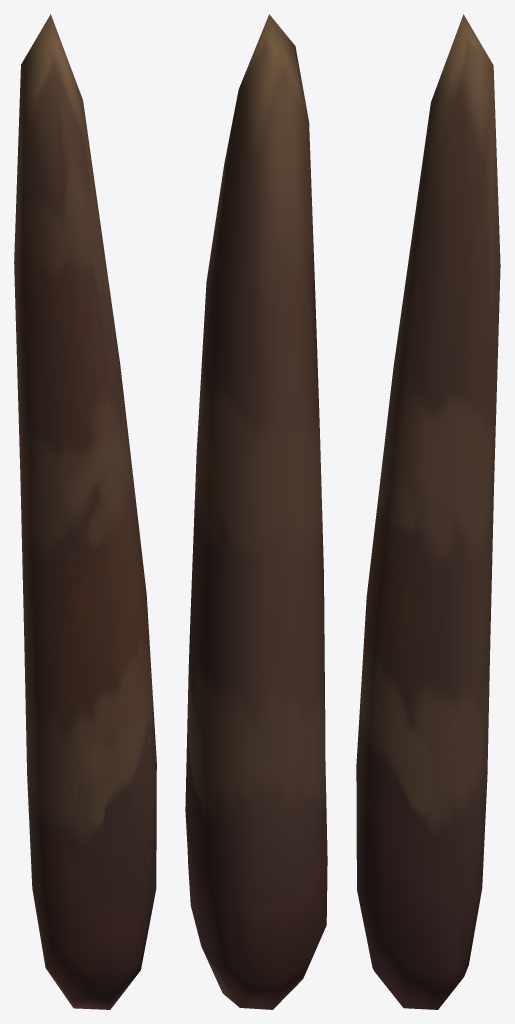
The model's file is Stag002.glb.
3 views of the same model, side by side, from view 1: azimuth 90°, elevation 25°; view 2: azimuth 210°, elevation 25°; view 3: azimuth 270°, elevation 25° (orthographic). The views are drawn at different scales.
Visible parts, largest first — view 1: Cube.005; view 2: Cube.005; view 3: Cube.005.
Part boxes in pixels (x1,y1,x2,y2): Cube.005: [14, 14, 156, 1009]; Cube.005: [185, 14, 327, 1009]; Cube.005: [356, 14, 500, 1009].
Size of the model in its own units: 0.1626 by 1.33 by 0.1746.
Materials: 1 (1 with a texture image).
